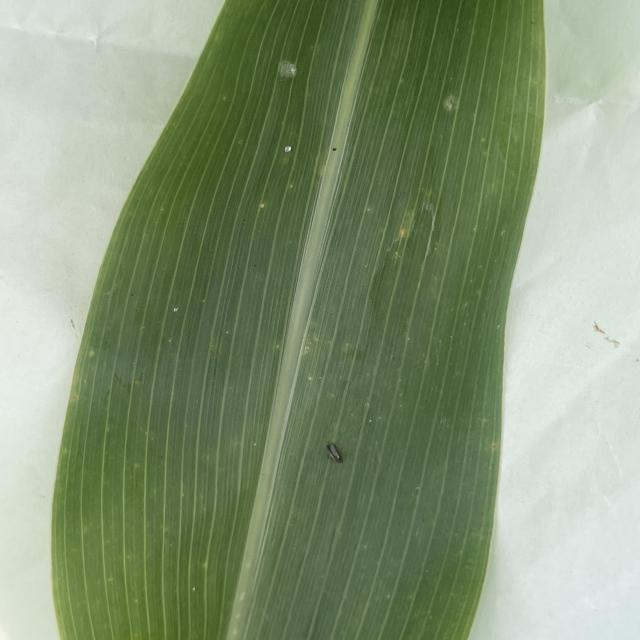millet_healthy: (51, 0, 550, 640)
